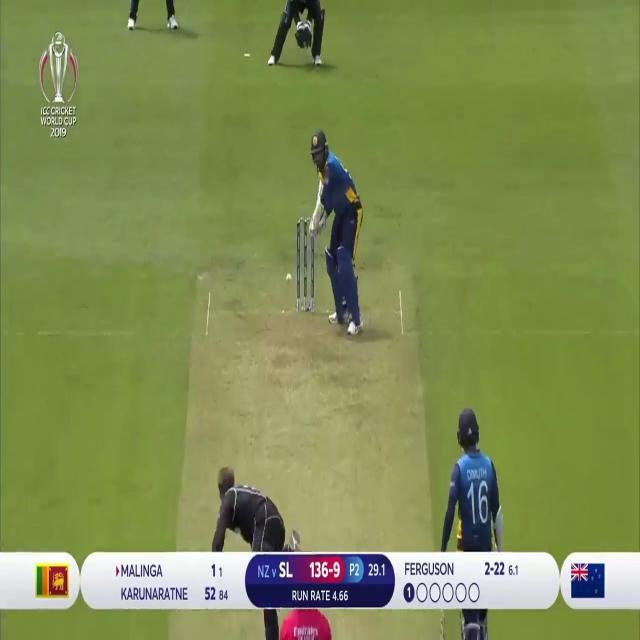ball: (282, 267, 294, 295)
